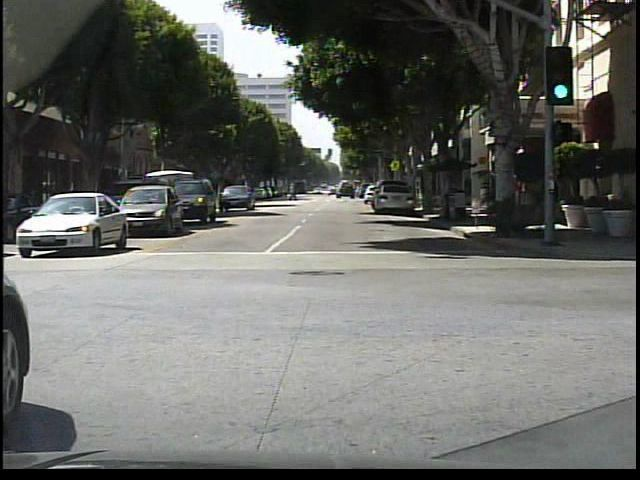person: (543, 161, 562, 239), (513, 170, 527, 224), (441, 172, 456, 220), (289, 184, 298, 201)
